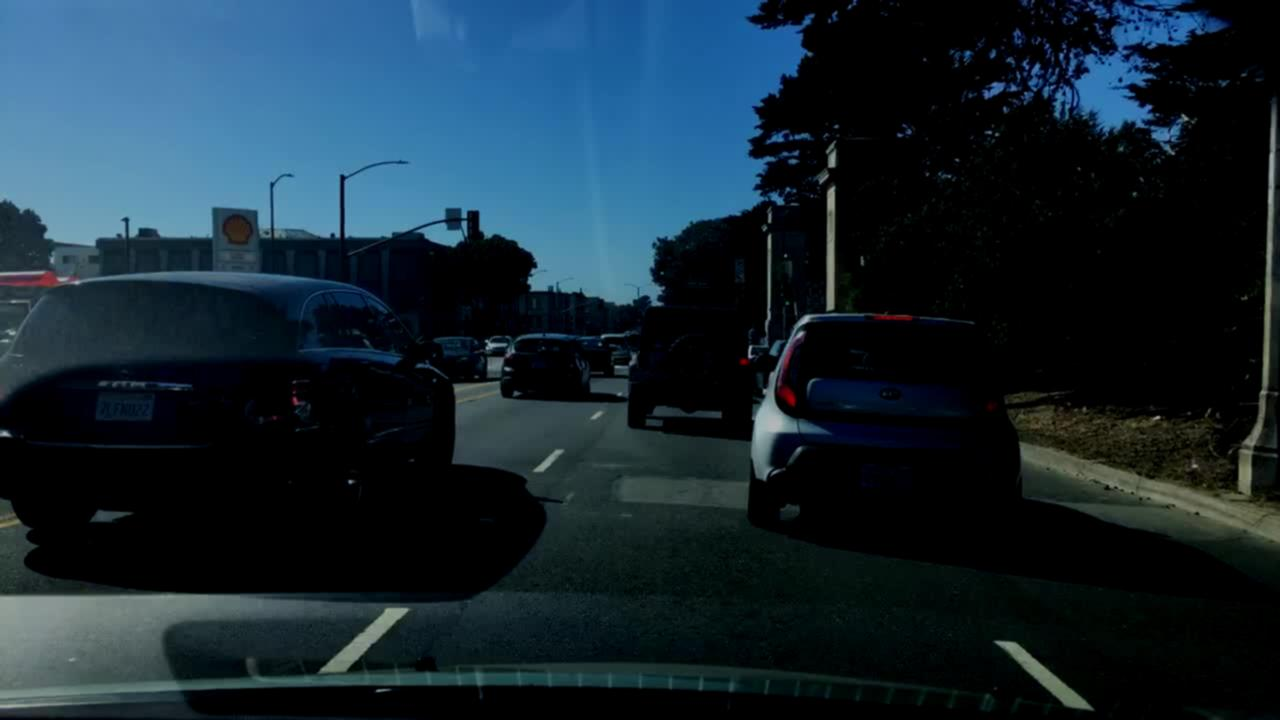kia: (869, 381, 915, 406)
